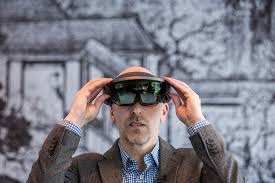hololens: (103, 78, 174, 107)
